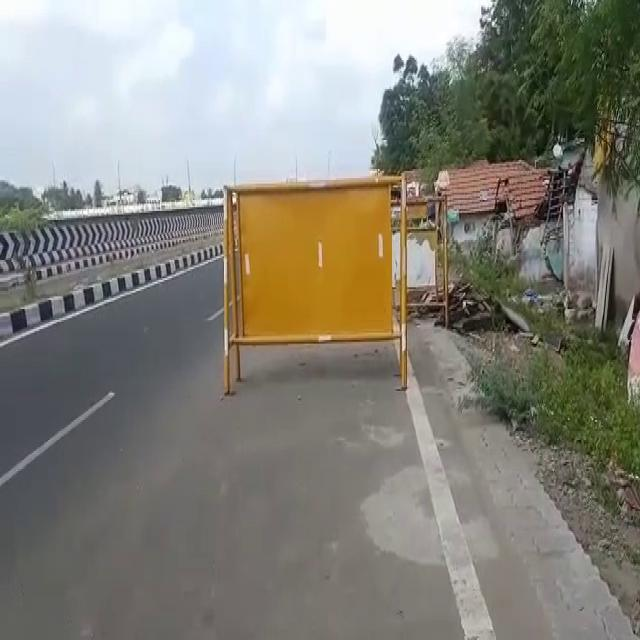fallen_object: (199, 162, 448, 419)
